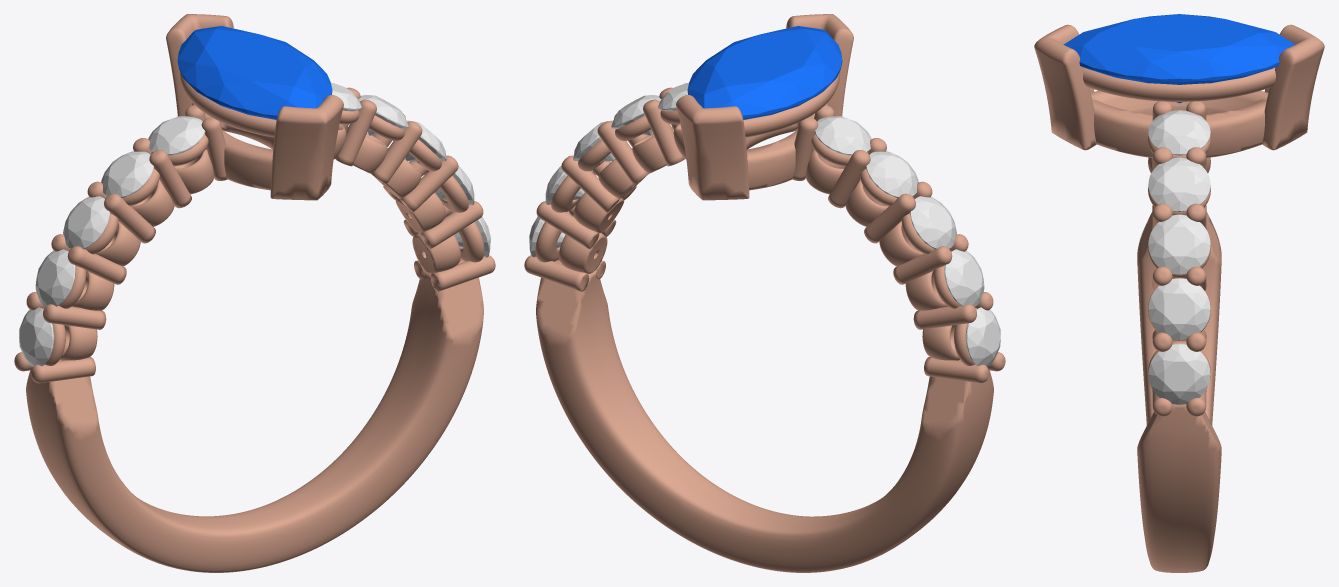
Rendered from bluesapphire-marquise-rosegold-protectededges2prongs-straighttaperedband-11stone.glb.
The picture shows the model from 3 angles, left to right: view 1: azimuth 30°, elevation 25°; view 2: azimuth 150°, elevation 25°; view 3: azimuth 270°, elevation 25°; orthographic projection. The views are drawn at different scales.
Visible parts, largest first — view 1: metal, stone, side.002, side.003, side.001, side.004, side, side.008; view 2: metal, stone, side.002, side.003, side.001, side.004, side, side.008; view 3: metal, stone, side.006, side.005, side.007, side.008, side.009.
Part boxes in pixels (x1,y1,x2,y2): metal: (14,14,495,572); stone: (177,26,332,119); side.002: (63,196,109,249); side.003: (101,151,153,197); side.001: (35,249,75,306); side.004: (148,116,205,155); side: (19,307,54,366); side.008: (358,95,408,135); metal: (524,14,1005,572); stone: (687,26,842,119); side.002: (910,196,956,249); side.003: (866,151,918,197); side.001: (944,249,984,306); side.004: (814,116,871,155); side: (965,307,1000,366); side.008: (611,95,661,135); metal: (1034,24,1324,572); stone: (1063,14,1295,103); side.006: (1148,278,1210,340); side.005: (1148,343,1210,404); side.007: (1148,214,1210,274); side.008: (1148,157,1210,211); side.009: (1148,110,1210,155).
Bounding box in the file's own units: 21.97 × 22.94 × 11.69.
